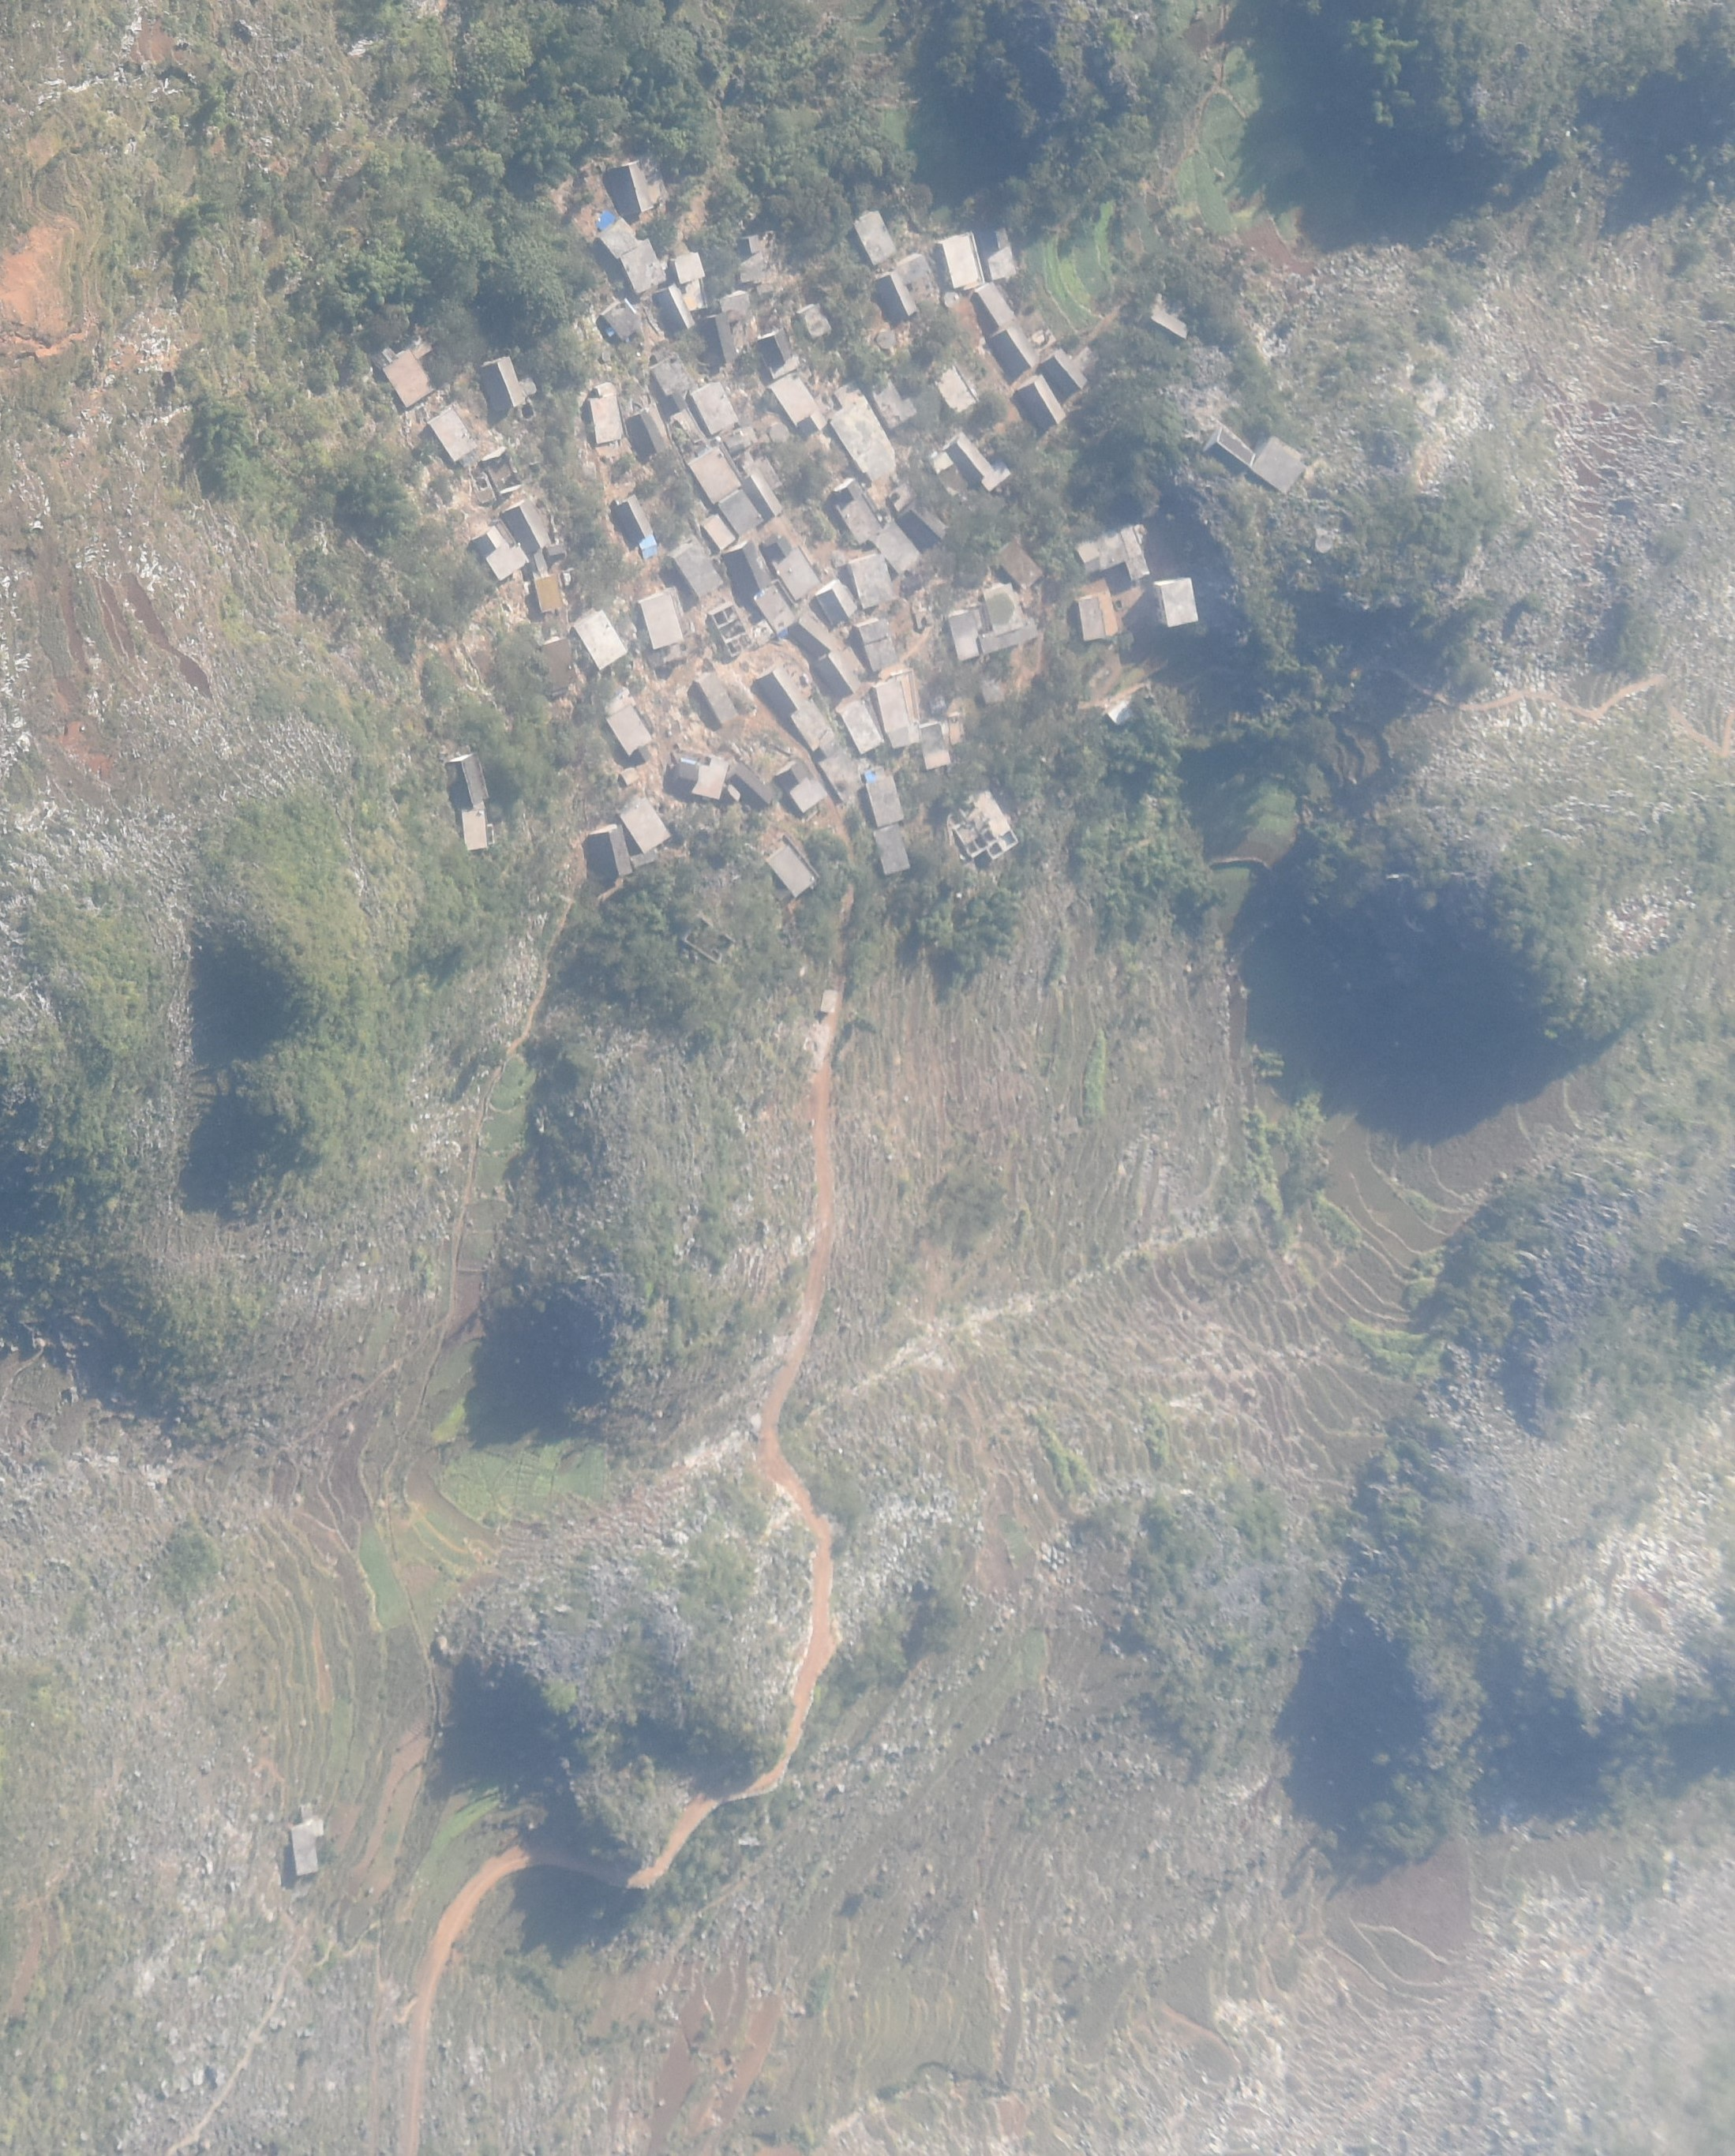building: (758, 664, 865, 804), (830, 380, 895, 477), (796, 613, 865, 693), (928, 433, 1010, 493), (951, 790, 1020, 859), (1074, 525, 1150, 580), (766, 534, 819, 601), (875, 670, 920, 749), (770, 373, 827, 434), (726, 427, 781, 487), (833, 478, 882, 542), (384, 348, 436, 408), (1253, 435, 1306, 495), (674, 539, 725, 598), (575, 612, 627, 668), (688, 445, 740, 501), (475, 527, 529, 580), (504, 498, 551, 559), (620, 797, 672, 852), (639, 591, 685, 651), (767, 839, 817, 895), (874, 519, 924, 575), (871, 369, 916, 428), (727, 539, 770, 598), (779, 760, 828, 812), (480, 356, 525, 412), (294, 1801, 326, 1880), (853, 208, 897, 265), (665, 395, 707, 455), (755, 580, 798, 637), (431, 408, 477, 462), (942, 232, 984, 291), (685, 916, 734, 966), (712, 602, 755, 658), (1019, 374, 1066, 426), (691, 384, 738, 434), (865, 767, 904, 827), (678, 755, 729, 801), (1202, 426, 1254, 471), (623, 238, 666, 292), (998, 538, 1044, 588), (850, 555, 894, 607), (841, 700, 883, 755), (933, 367, 980, 414), (898, 253, 939, 308), (728, 761, 774, 808), (606, 707, 653, 754), (449, 750, 488, 807), (590, 826, 631, 879), (612, 161, 653, 214), (718, 489, 764, 535), (983, 583, 1025, 634), (1156, 577, 1197, 627), (897, 503, 945, 546), (649, 348, 691, 396), (698, 671, 738, 721), (857, 621, 897, 670), (673, 251, 706, 311), (1041, 350, 1088, 392), (880, 271, 920, 320), (1149, 291, 1190, 337), (976, 282, 1016, 329), (590, 384, 622, 444), (616, 494, 653, 546), (657, 285, 693, 335), (743, 474, 785, 516), (816, 582, 857, 624), (874, 826, 909, 875), (543, 637, 575, 691), (628, 412, 665, 459), (1077, 596, 1114, 643), (599, 214, 637, 258), (703, 315, 737, 363), (980, 624, 1036, 653), (463, 802, 497, 849), (1000, 324, 1036, 369), (949, 613, 982, 661), (601, 301, 639, 342), (921, 720, 951, 770), (989, 227, 1017, 279), (739, 235, 766, 283), (799, 302, 834, 339), (535, 573, 565, 615), (702, 515, 736, 549), (761, 329, 793, 367), (887, 482, 917, 511), (980, 673, 1006, 704), (605, 687, 636, 713), (770, 355, 800, 380), (721, 292, 750, 317), (1109, 700, 1133, 726), (948, 713, 965, 746), (929, 687, 947, 716), (412, 330, 431, 357), (526, 554, 547, 576), (820, 987, 838, 1012), (630, 852, 658, 868), (546, 542, 565, 562), (621, 767, 639, 785), (834, 548, 849, 567), (727, 784, 741, 801)
prefabricated-house: (639, 535, 658, 558)
well: (875, 329, 897, 351), (942, 288, 961, 309), (519, 378, 537, 395)
